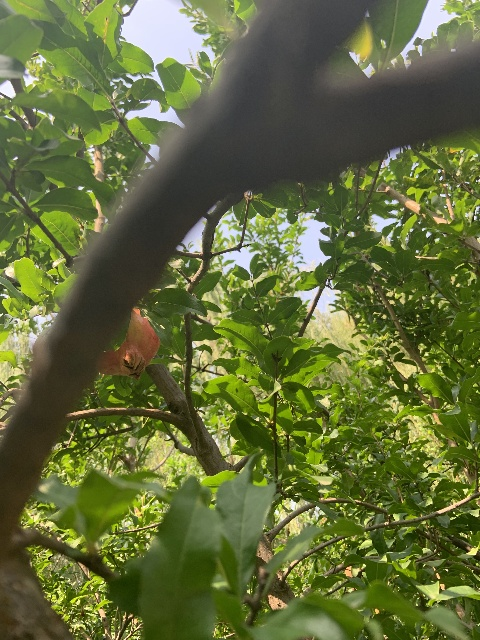ripe: (96, 308, 160, 379)
